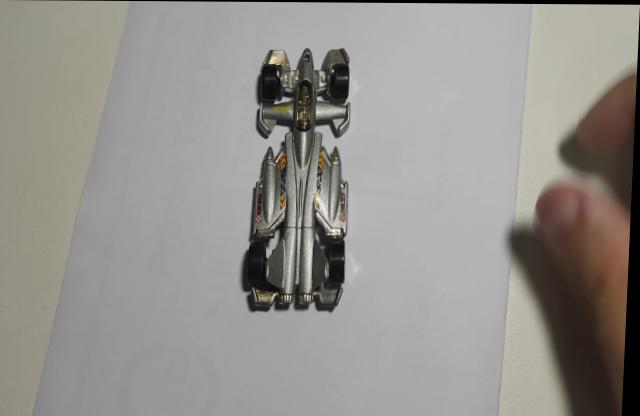05_DC121: (242, 48, 353, 314)
